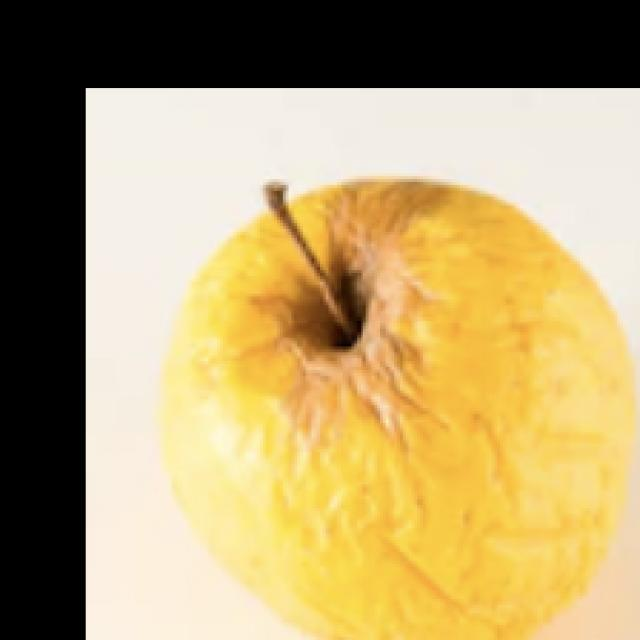Rotten: (163, 171, 614, 640)
